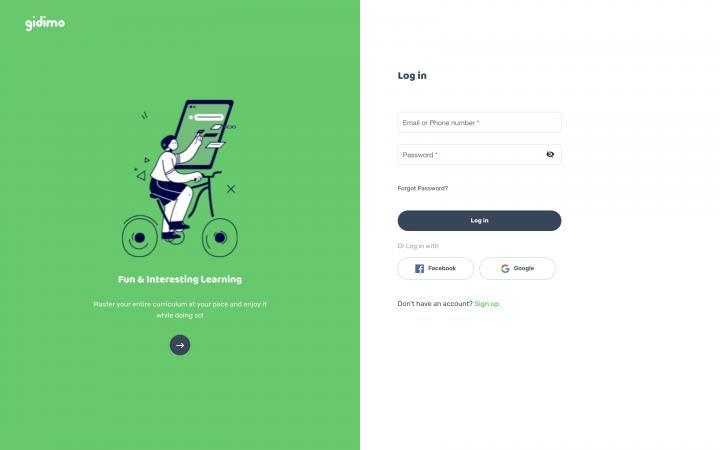button: (399, 211, 563, 232), (397, 258, 476, 282), (480, 259, 557, 281)
icon: (544, 148, 558, 161)
input: (397, 143, 565, 166), (396, 112, 563, 135)
label: (397, 70, 430, 85)
